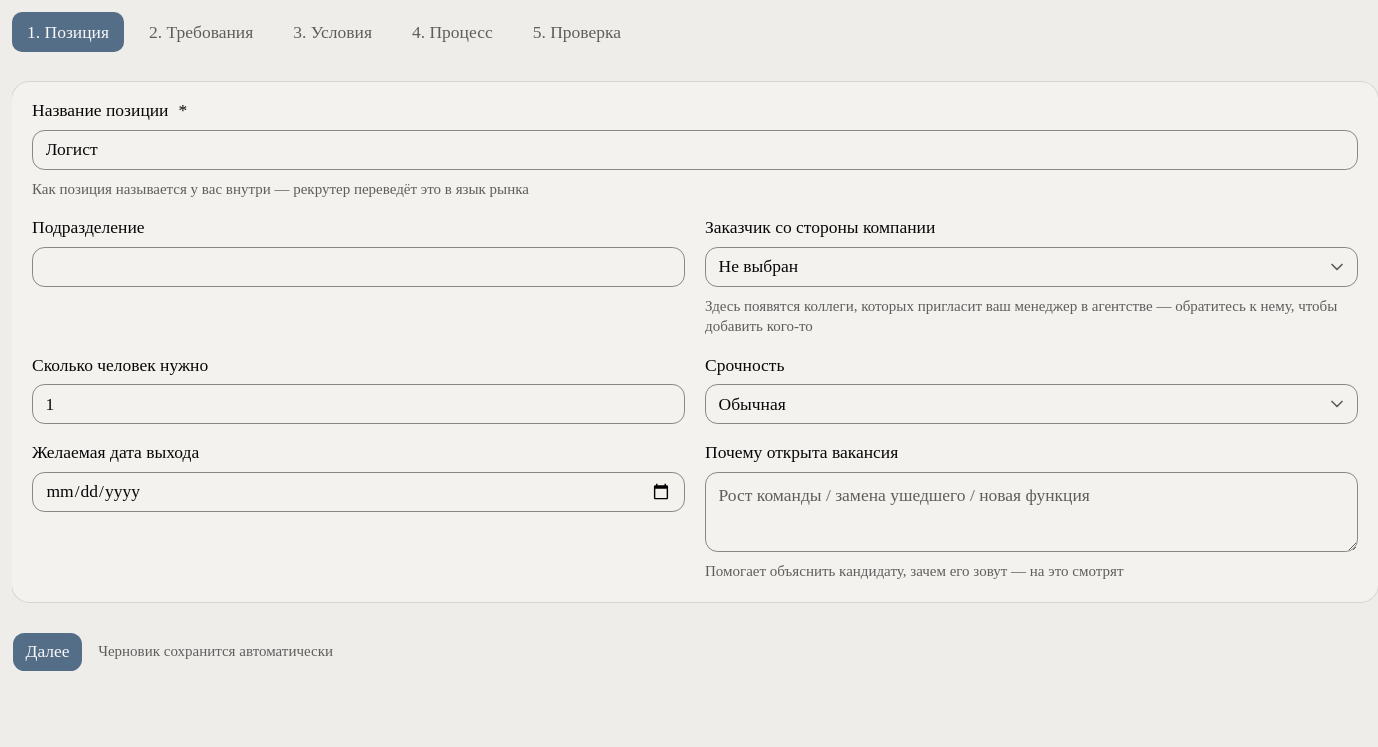
Test: число человек › очищенное поле останавливает «Далее» и называется по имени
Step 1. Clear the number field labelled "Сколько человек нужно" → (358, 404), box top-left (32, 384), bottom-right (685, 424)
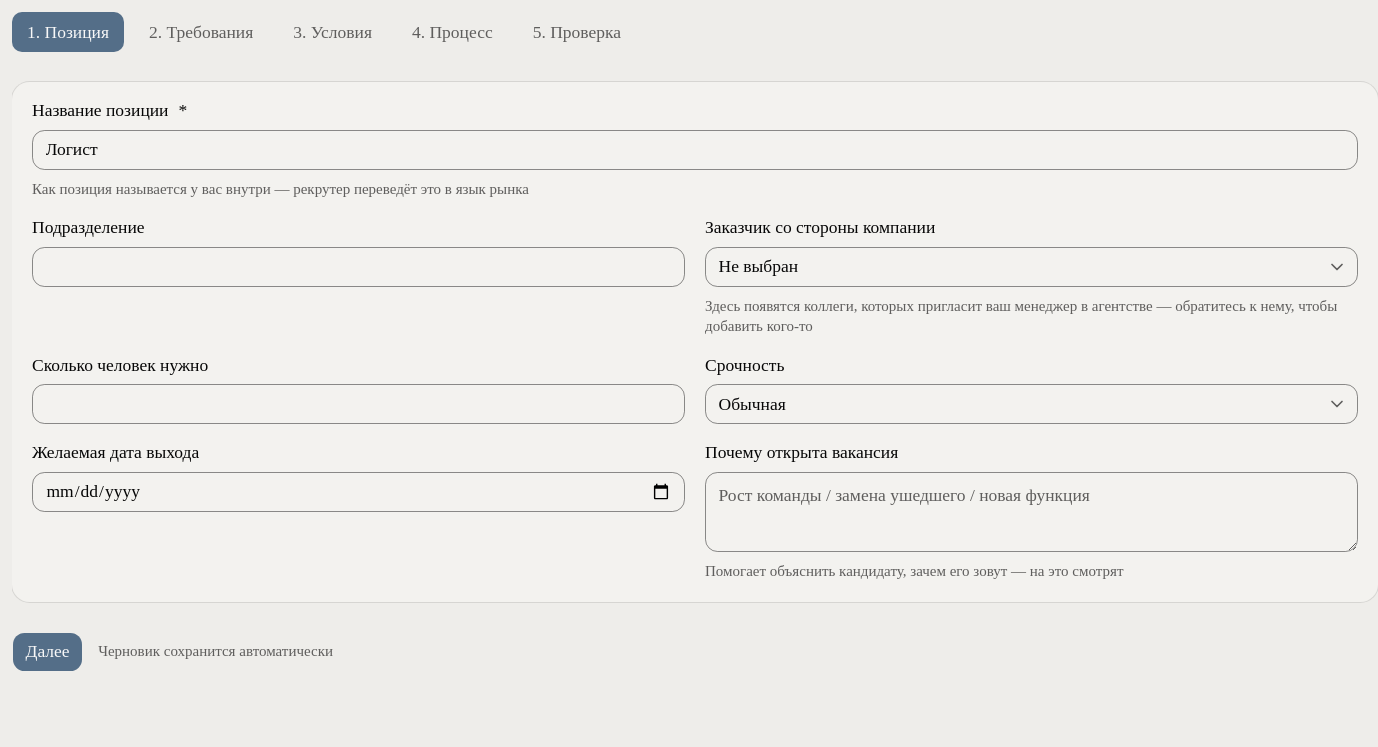
Step 2. Click the button "Далее" → (48, 652), box top-left (12, 632), bottom-right (83, 672)
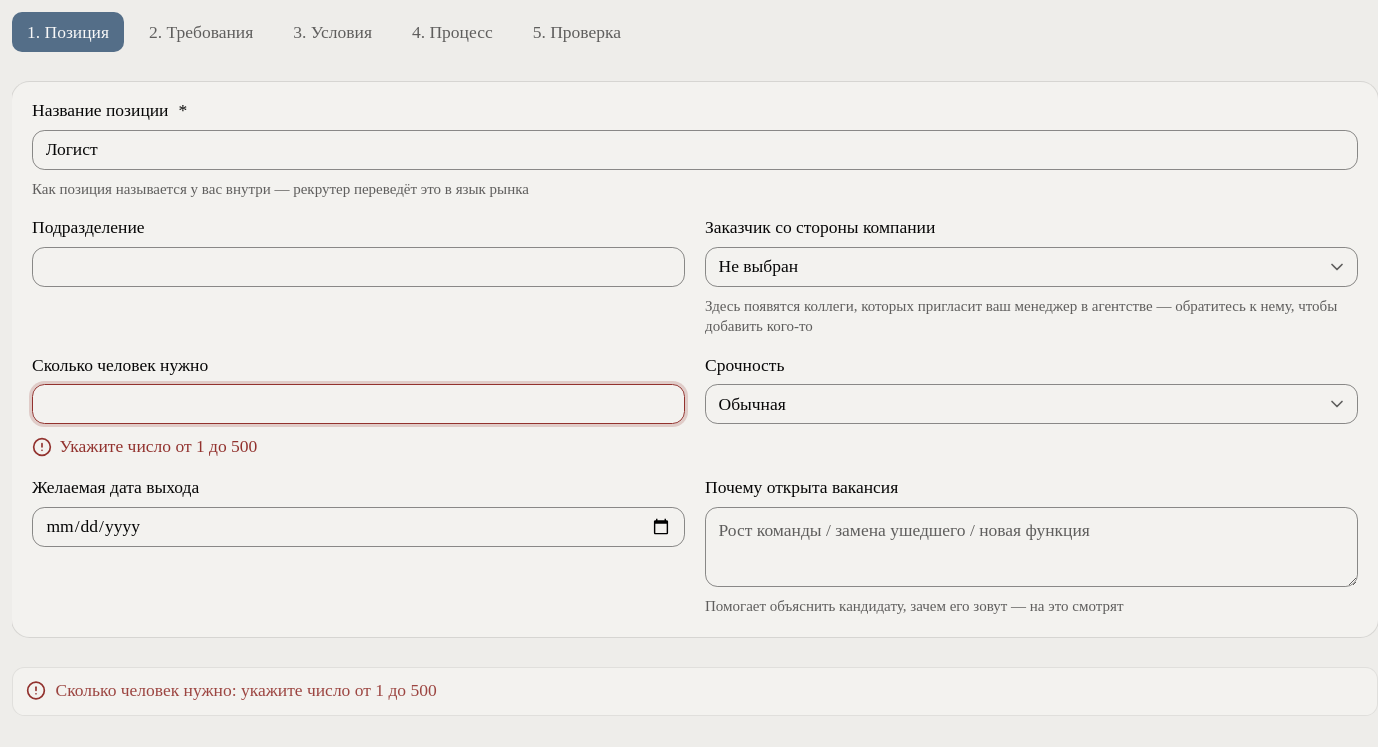
Expected: the text "Сколько человек нужно: укажите число от 1 до 500" is shown, top-left (56, 680), bottom-right (437, 700)
